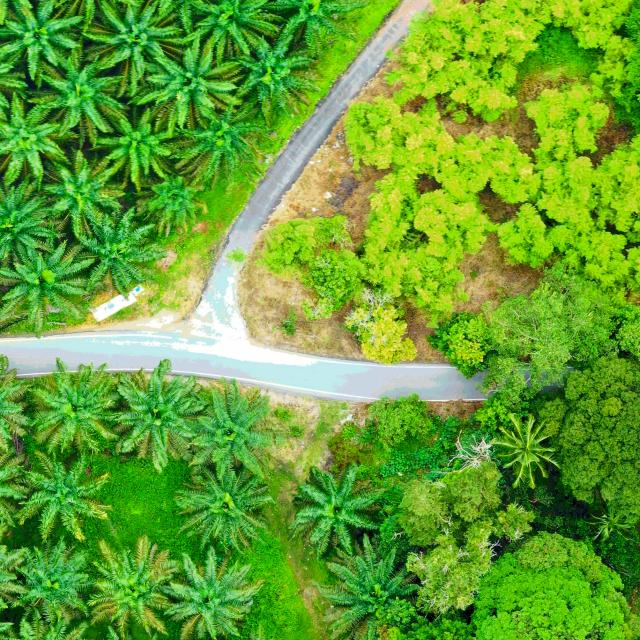Tree: (397, 457, 532, 616), (470, 529, 630, 640), (538, 352, 640, 518), (471, 289, 598, 406), (105, 356, 211, 476), (314, 529, 424, 640), (174, 376, 278, 482), (11, 444, 116, 544), (133, 36, 240, 134), (159, 103, 272, 191), (164, 544, 267, 639), (25, 355, 122, 455), (82, 535, 178, 636), (0, 239, 102, 333), (286, 463, 387, 554), (85, 98, 180, 194), (74, 206, 173, 298), (176, 464, 276, 553), (228, 28, 320, 121), (38, 148, 128, 242), (82, 0, 182, 82), (0, 88, 79, 183), (0, 173, 71, 277), (6, 536, 90, 622), (0, 0, 84, 84), (130, 170, 210, 240), (347, 288, 419, 365), (492, 414, 560, 489), (429, 310, 492, 376)
